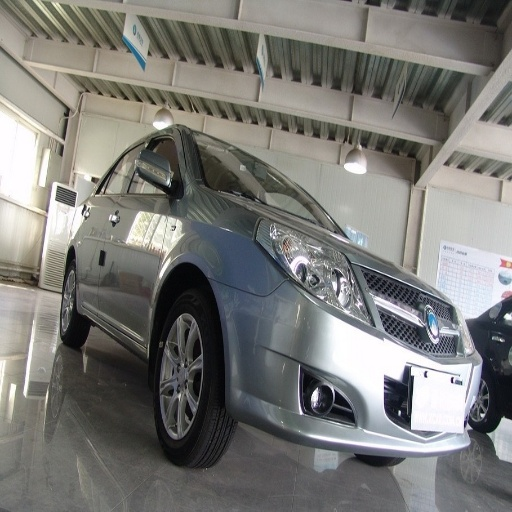front_bumper: (218, 280, 489, 458)
front_right_door: (101, 130, 182, 331)
front_right_light: (257, 200, 461, 356)
